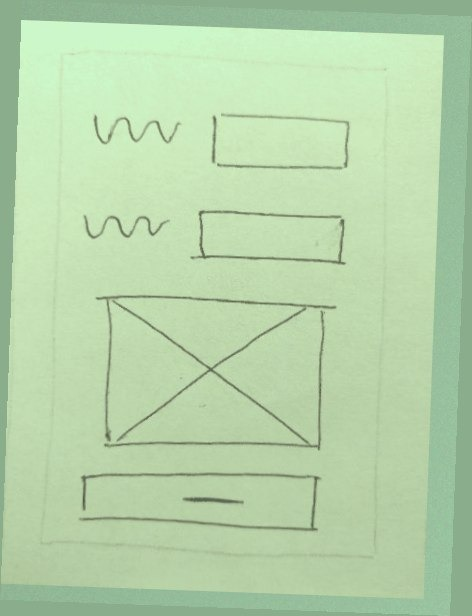button: (71, 461, 329, 538)
image: (81, 283, 344, 461)
text: (87, 101, 194, 167), (72, 196, 177, 253)
text_input: (184, 200, 359, 276), (202, 103, 363, 185)
